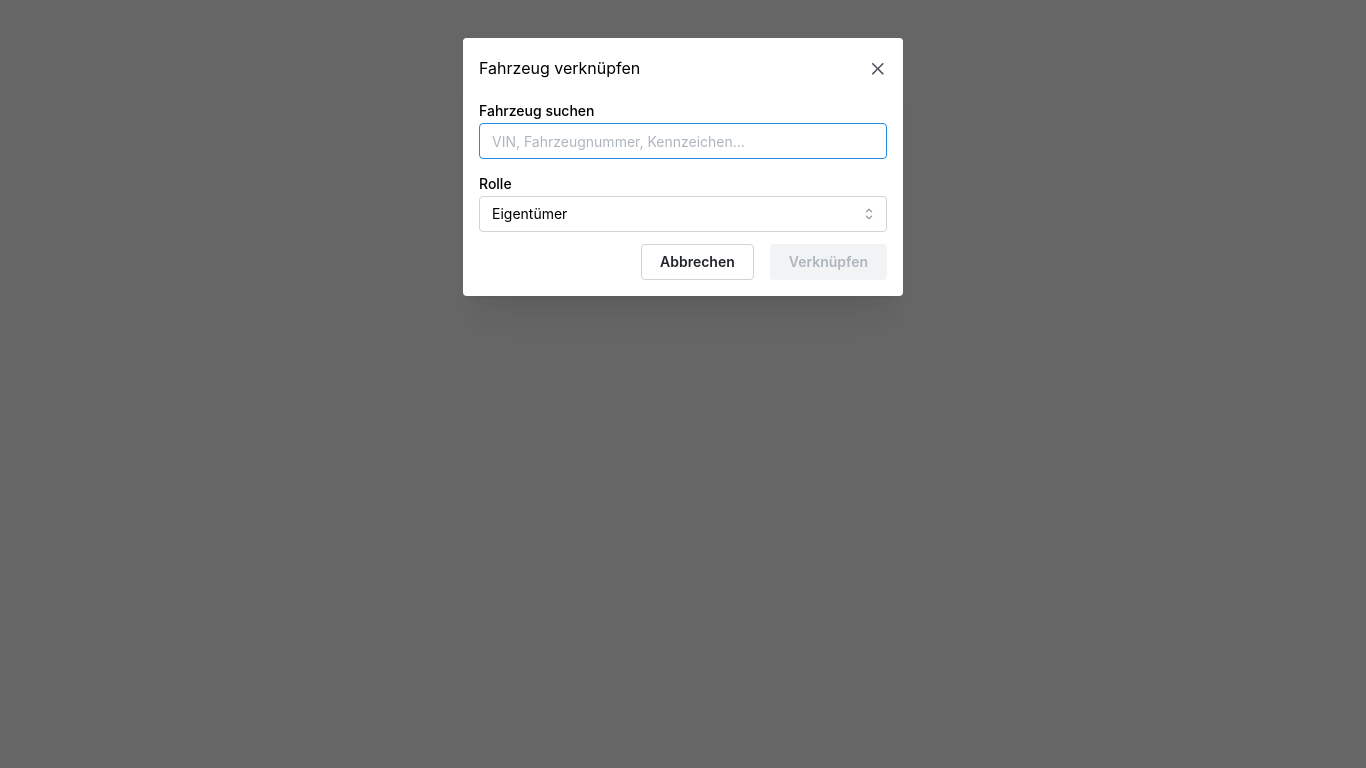
it: LinkVehicleModal — a full identifier finds its vehicle (KAN-82) › a fragment still lists the filtered vehicles
Type "WVW" into the field labelled "Fahrzeug suchen" at (683, 141), box top-left (479, 123), bottom-right (887, 159)
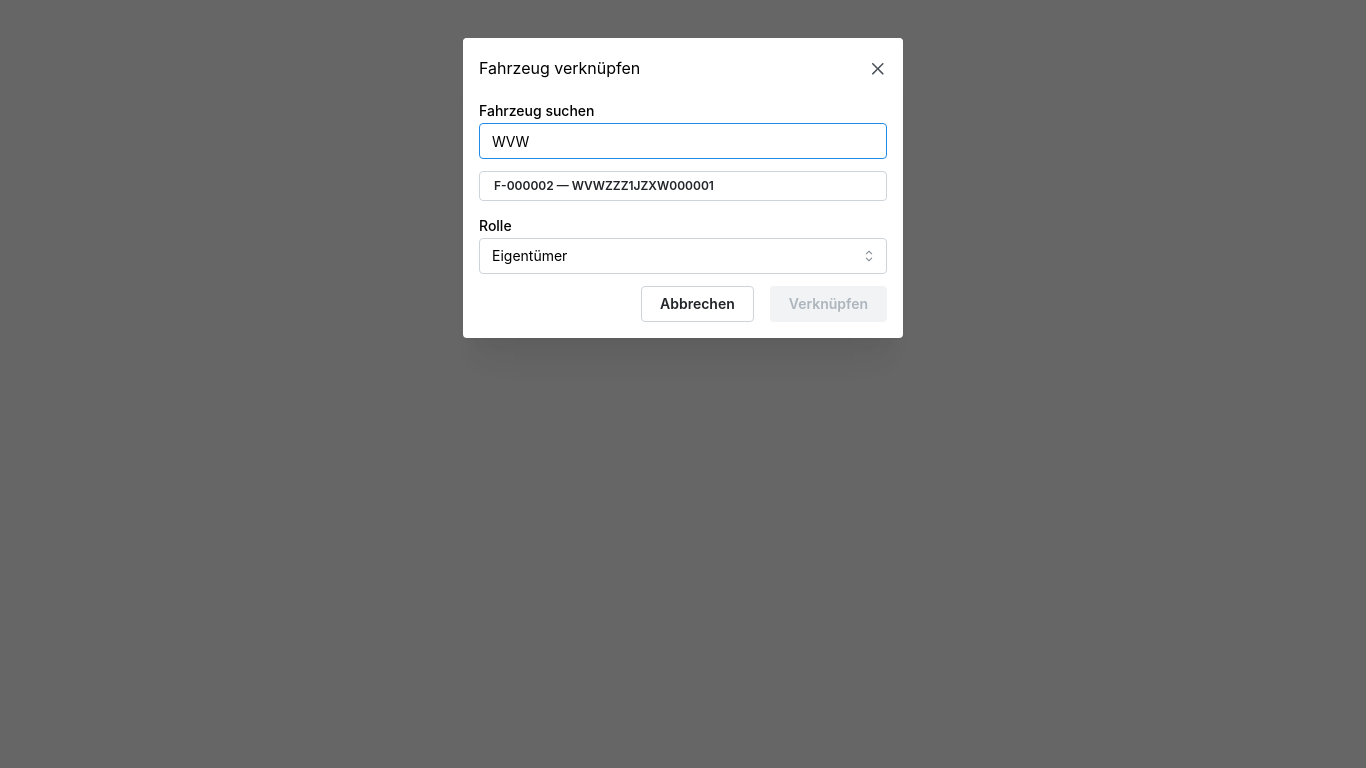
Now the button "F-000002 — WVWZZZ1JZXW000001" is shown, box top-left (479, 171), bottom-right (887, 201)
